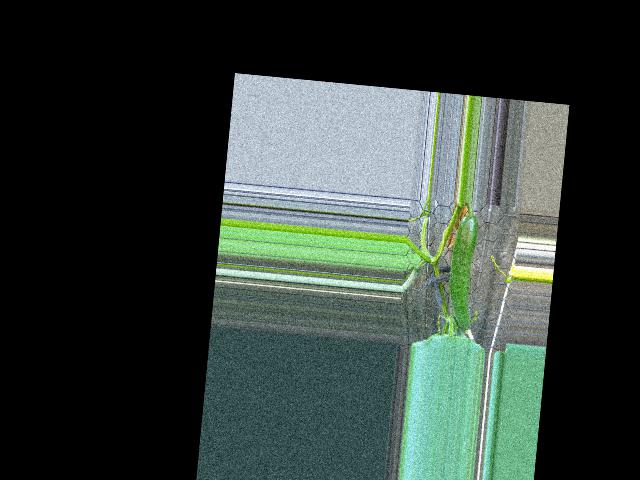cucumber: (444, 213, 480, 329)
